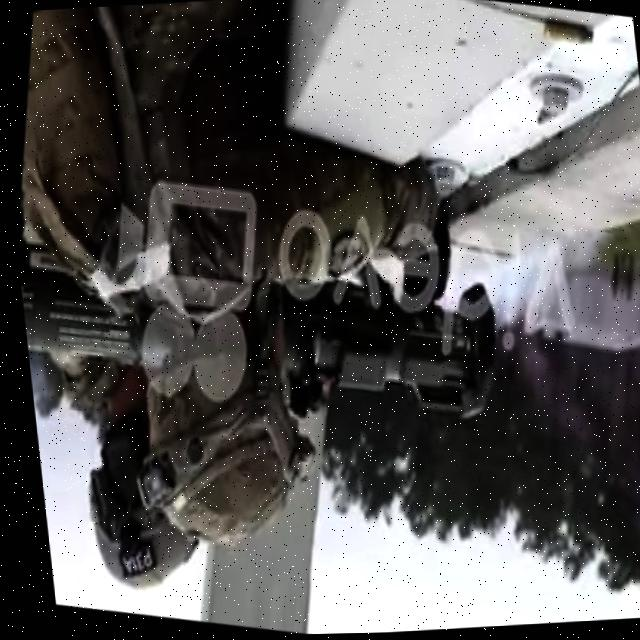rocket: (13, 207, 510, 448)
